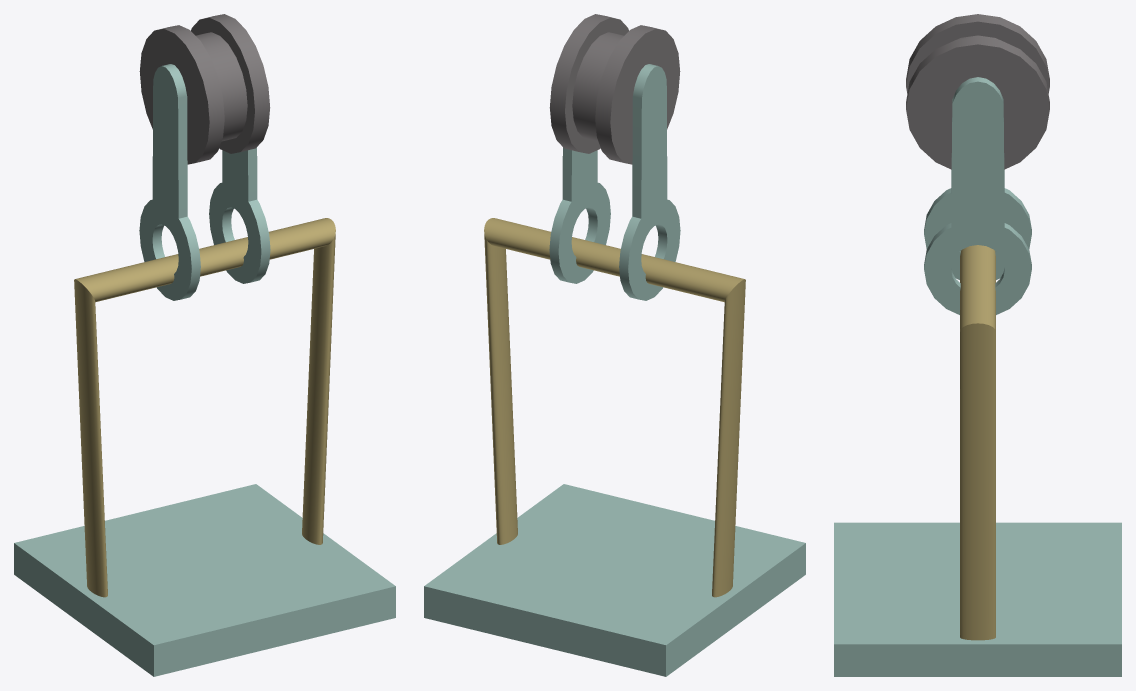
The model's file is zipC.obj.
3 views of the same model, side by side, from view 1: azimuth 30°, elevation 25°; view 2: azimuth 150°, elevation 25°; view 3: azimuth 270°, elevation 25° (orthographic). The views are drawn at different scales.
Parts seen in each view (by area): view 1: zip1; view 2: zip1; view 3: zip1.
Part boxes in pixels (left/top/right/bottom): zip1: left=14, top=14, right=395, bottom=676; zip1: left=424, top=14, right=805, bottom=676; zip1: left=834, top=14, right=1121, bottom=676.
Bounding box in the file's own units: 0.8347 × 1.8 × 0.8.
